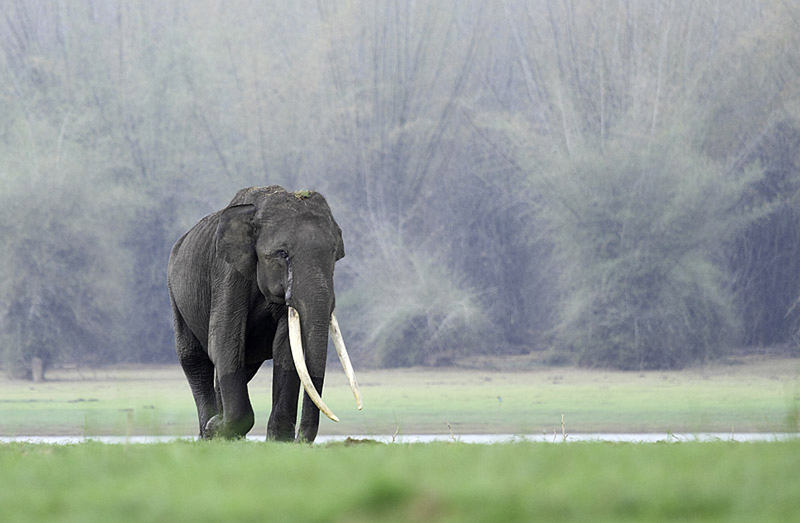Indian Elephant: (147, 179, 379, 451)
